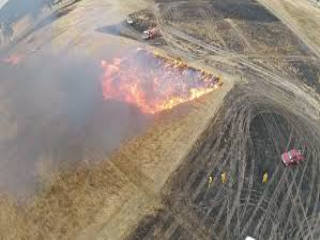fire: (100, 51, 218, 110)
